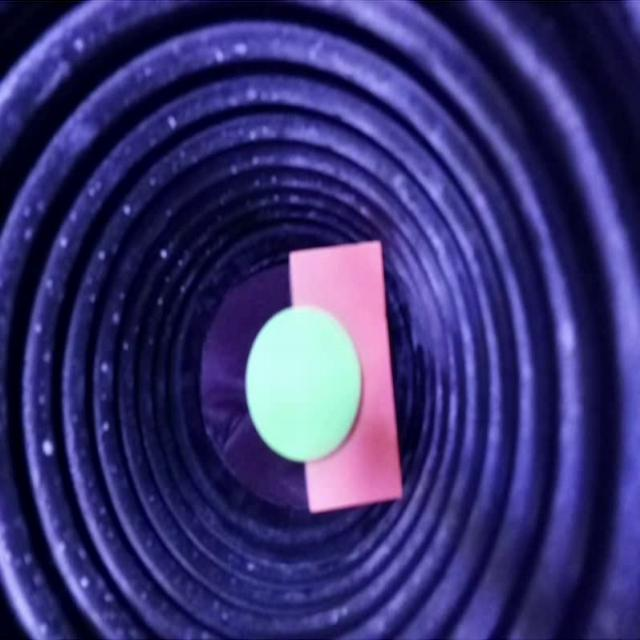block: (203, 325, 244, 440), (236, 463, 303, 515), (213, 288, 284, 310)
obstacles: (254, 244, 406, 510)
